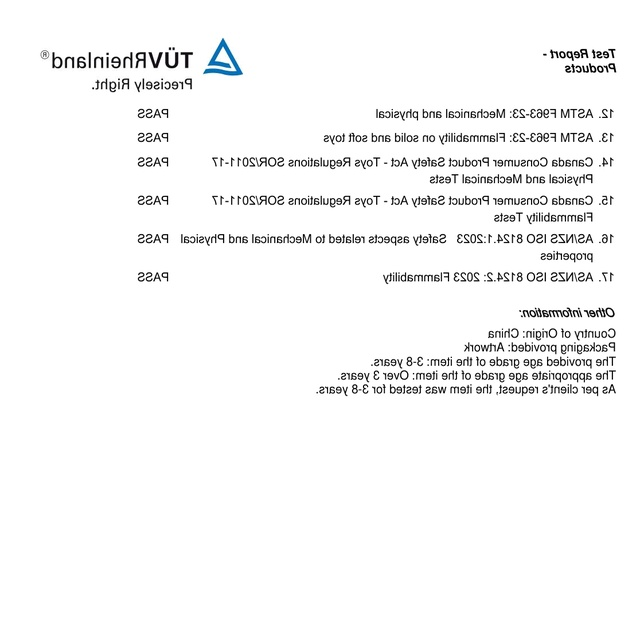tuv_rheinland: (35, 34, 245, 79)
